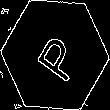P_NW: (27, 26, 83, 84)
